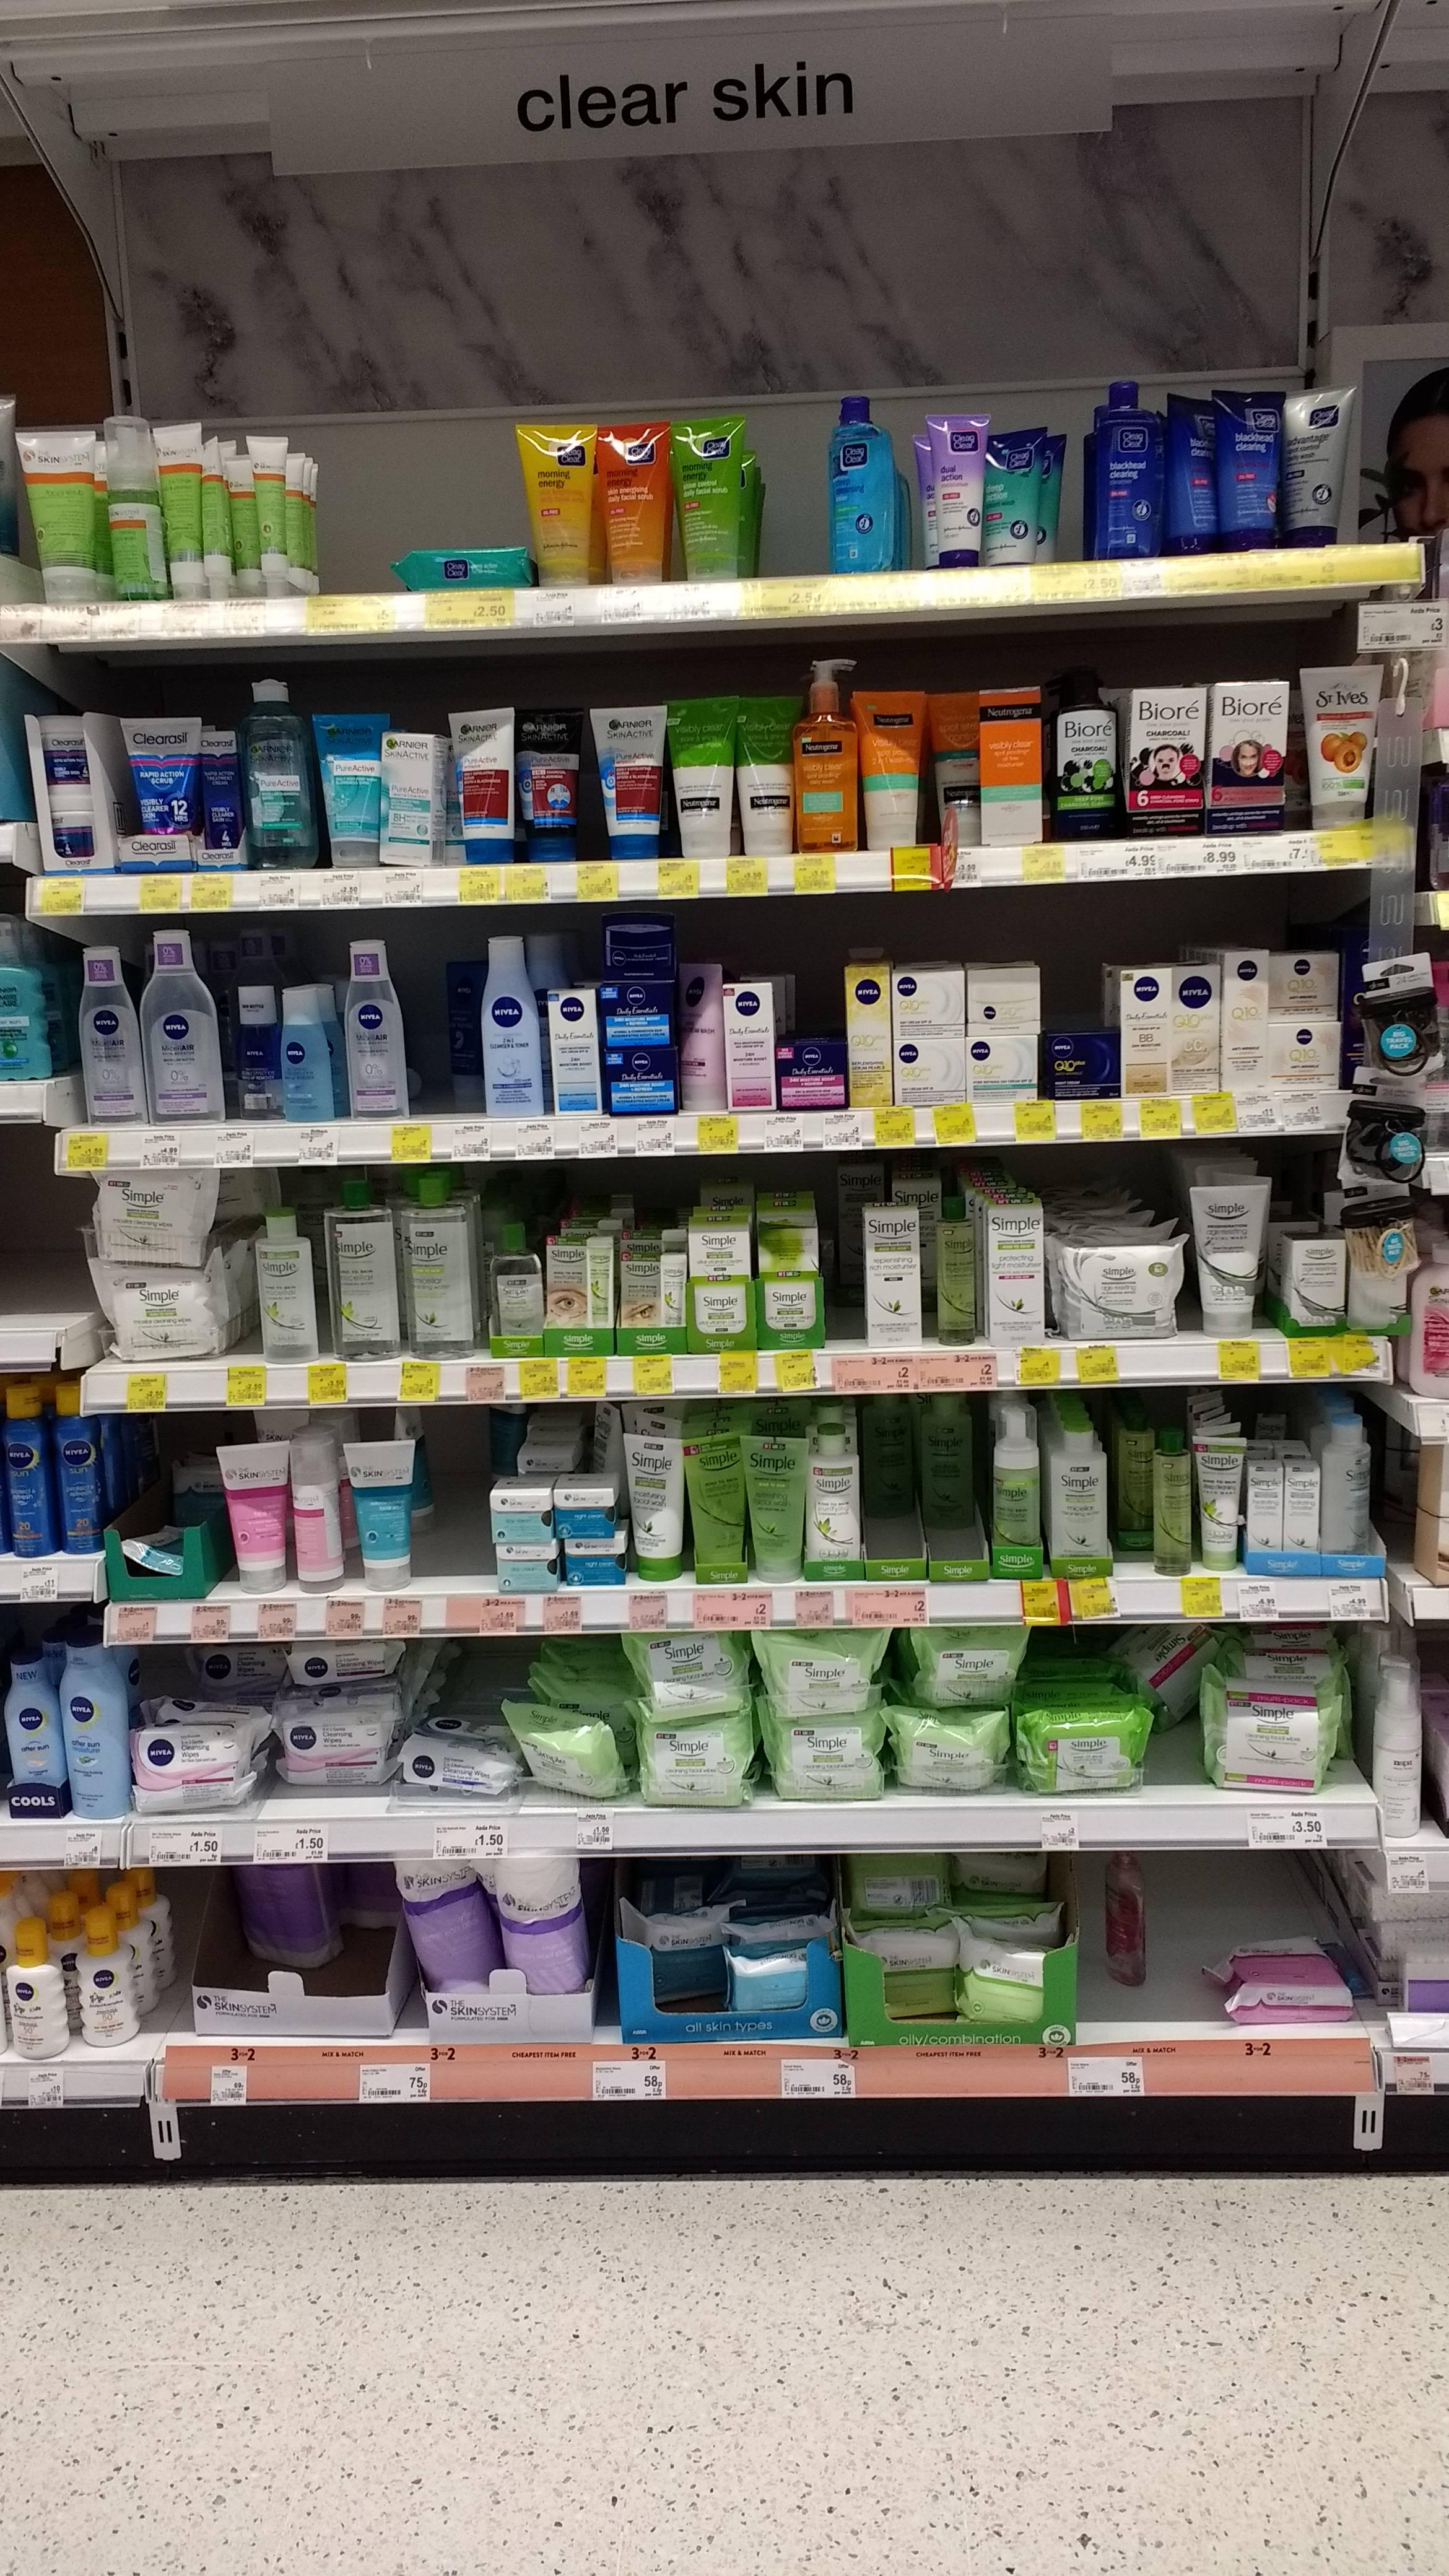empty: (326, 464, 409, 596), (1154, 1884, 1228, 2029), (410, 1433, 483, 1578), (405, 970, 479, 1111), (754, 441, 826, 580), (1077, 1898, 1146, 2036), (863, 1422, 918, 1564), (925, 1417, 980, 1557)
